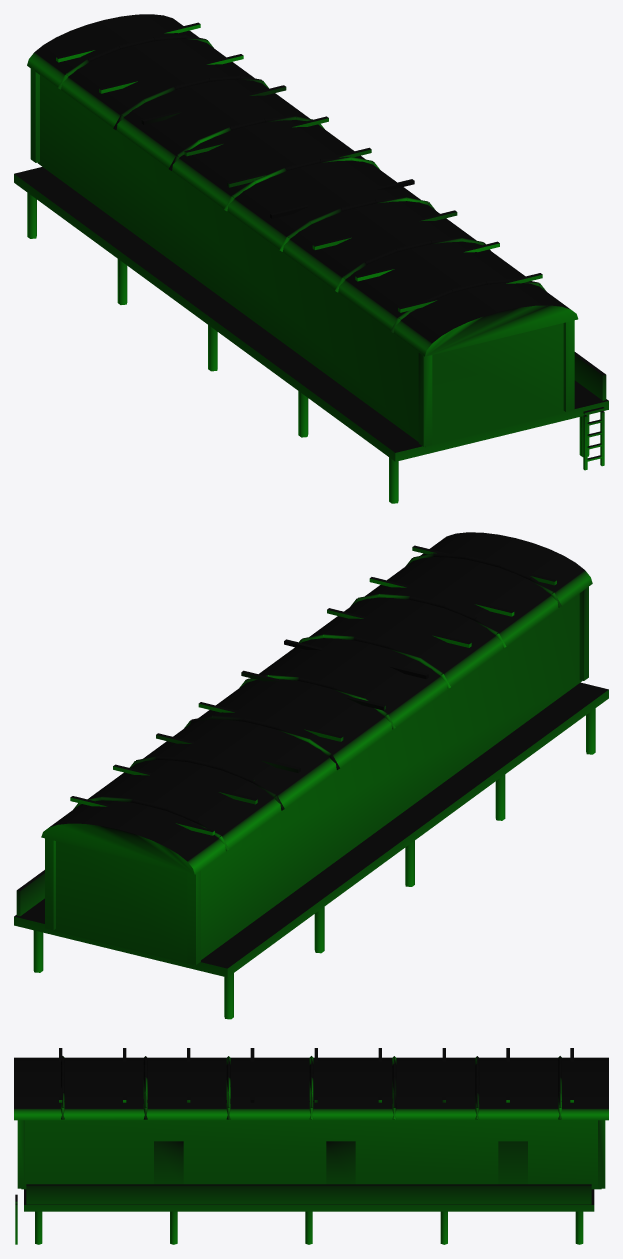
File: s_barracks2.glb
3 renders of one model, top to bottom at view 1: azimuth 30°, elevation 25°; view 2: azimuth 150°, elevation 25°; view 3: azimuth 270°, elevation 25°, orthographic. The views are drawn at different scales.
Parts seen in each view (by area): view 1: lod0; view 2: lod0; view 3: lod0.
Part boxes in pixels (x1,y1,x2,y2): lod0: [14, 14, 608, 503]; lod0: [14, 532, 608, 1019]; lod0: [14, 1048, 608, 1244].
Size of what is drawn, in the model's own units: 7.5 by 6.13 by 24.2.
